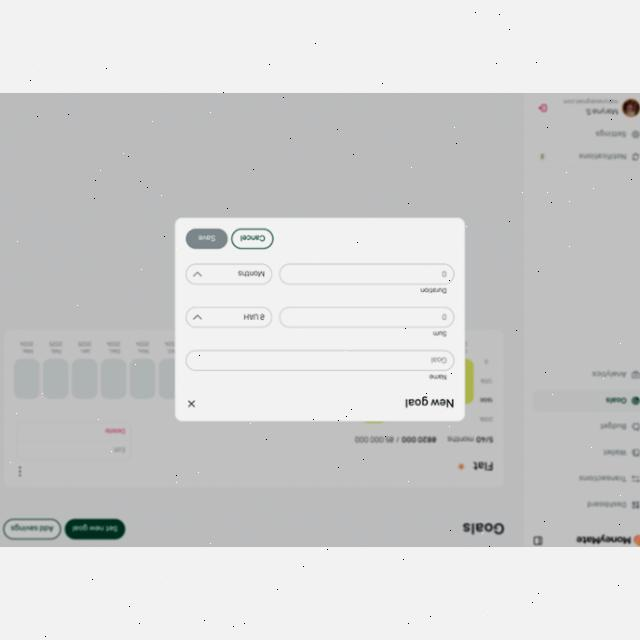QLabel: (406, 396, 456, 408), (420, 286, 448, 294), (240, 234, 266, 242), (428, 373, 448, 381), (198, 233, 216, 241), (432, 330, 448, 338)
VBtn: (232, 228, 274, 248), (186, 228, 228, 248)
VCombobox: (185, 306, 272, 328), (186, 262, 272, 284)
VDialog: (174, 216, 466, 420)
VIcon: (188, 399, 196, 409)
VTextField: (186, 348, 454, 372), (278, 305, 454, 327), (280, 263, 454, 285)
